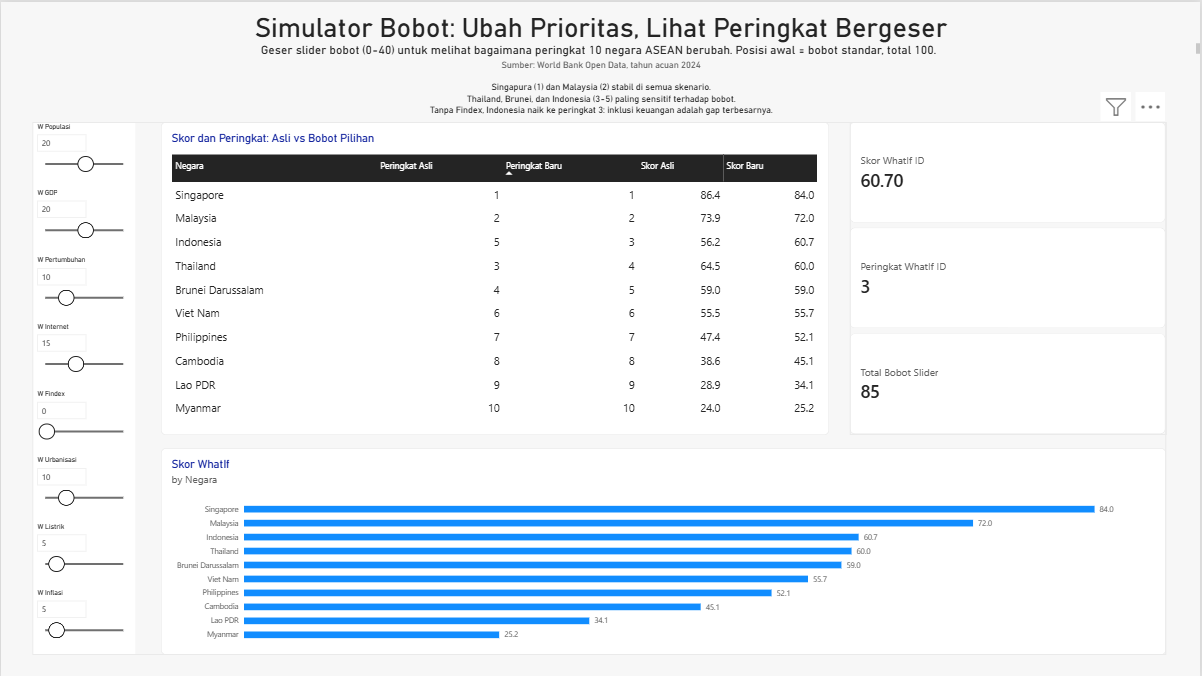

The dashboard page shown, as its layout file describes it:
{"tool":"powerbi","page":{"name":"2. Simulator bobot","canvas":[1920,1080],"ordinal":1},"visuals":[{"type":"textbox","box":[0,16,1920,52],"z":0},{"type":"textbox","box":[0,90,1920,24],"z":1000},{"type":"textbox","box":[397.8,126.7,1124.4,65.6],"z":2000},{"type":"textbox","box":[0,66.8,1920,24],"z":3000},{"type":"tableEx","title":"Skor dan Peringkat: Asli vs Bobot Pilihan","fields":{"Values":["skor_negara.negara_nama","skor_negara.peringkat","skor_negara.Peringkat WhatIf","skor_negara.skor_total","skor_negara.Skor WhatIf"]},"box":[255.9,192,1068.6,500.5],"z":3000,"group":"g1"},{"type":"slicer","fields":{"Values":["W GDP.W GDP"]},"box":[50,298,163.8,106.5],"z":3000,"group":"g2"},{"type":"slicer","fields":{"Values":["W Populasi.W Populasi"]},"box":[50,192,163.8,106],"z":4000,"group":"g2"},{"type":"group","id":"g1","title":"Group 2","box":[50,192,1814,852],"z":4000},{"type":"cardVisual","fields":{"Data":["skor_negara.Skor WhatIf ID","skor_negara.Peringkat WhatIf ID","skor_negara.Total Bobot Slider"]},"box":[1358.4,192,505.6,500.5],"z":4000,"group":"g1"},{"type":"group","id":"g2","title":"Group 1","box":[50,192,164.2,852],"z":5000,"group":"g1"},{"type":"slicer","fields":{"Values":["W Internet.W Internet"]},"box":[50,512.7,163.8,106.5],"z":5000,"group":"g2"},{"type":"slicer","fields":{"Values":["W Pertumbuhan.W Pertumbuhan"]},"box":[50,406.4,163.8,106.5],"z":6000,"group":"g2"},{"type":"barChart","fields":{"Category":["negara_indikator.negara_nama"],"Y":["skor_negara.Skor WhatIf"]},"box":[255.9,713.5,1608.1,330.5],"z":6000,"group":"g1"},{"type":"slicer","fields":{"Values":["W Findex.W Findex"]},"box":[50,619.1,163.8,106.5],"z":7000,"group":"g2"},{"type":"slicer","fields":{"Values":["W Urbanisasi.W Urbanisasi"]},"box":[50,725.8,163.8,106.8],"z":8000,"group":"g2"},{"type":"slicer","fields":{"Values":["W Listrik.W Listrik"]},"box":[50,831.8,163.8,106],"z":9000,"group":"g2"},{"type":"slicer","fields":{"Values":["W Inflasi.W Inflasi"]},"box":[50,937.8,163.8,105.1],"z":10000,"group":"g2"}]}

Visuals, with their boxes in screenshot pixels (x1, y1, x2, y2), scaled from the page's 1920x1080 canvas onto the 1202x676 screenshot:
textbox: detection(0, 10, 1201, 43)
textbox: detection(0, 56, 1201, 71)
textbox: detection(249, 79, 953, 120)
textbox: detection(0, 42, 1201, 57)
"Skor dan Peringkat: Asli vs Bobot Pilihan" tableEx: detection(160, 120, 829, 433)
slicer - W GDP.W GDP: detection(31, 187, 134, 253)
slicer - W Populasi.W Populasi: detection(31, 120, 134, 187)
"Group 2" group: detection(31, 120, 1167, 653)
cardVisual - skor_negara.Skor WhatIf ID x skor_negara.Peringkat WhatIf ID: detection(850, 120, 1167, 433)
"Group 1" group: detection(31, 120, 134, 653)
slicer - W Internet.W Internet: detection(31, 321, 134, 388)
slicer - W Pertumbuhan.W Pertumbuhan: detection(31, 254, 134, 321)
barChart - negara_indikator.negara_nama x skor_negara.Skor WhatIf: detection(160, 447, 1167, 653)
slicer - W Findex.W Findex: detection(31, 388, 134, 454)
slicer - W Urbanisasi.W Urbanisasi: detection(31, 454, 134, 521)
slicer - W Listrik.W Listrik: detection(31, 521, 134, 587)
slicer - W Inflasi.W Inflasi: detection(31, 587, 134, 653)
